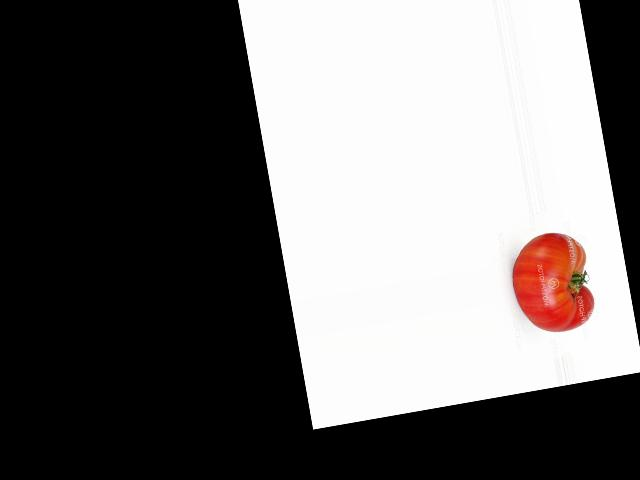tomato: (505, 227, 598, 337)
